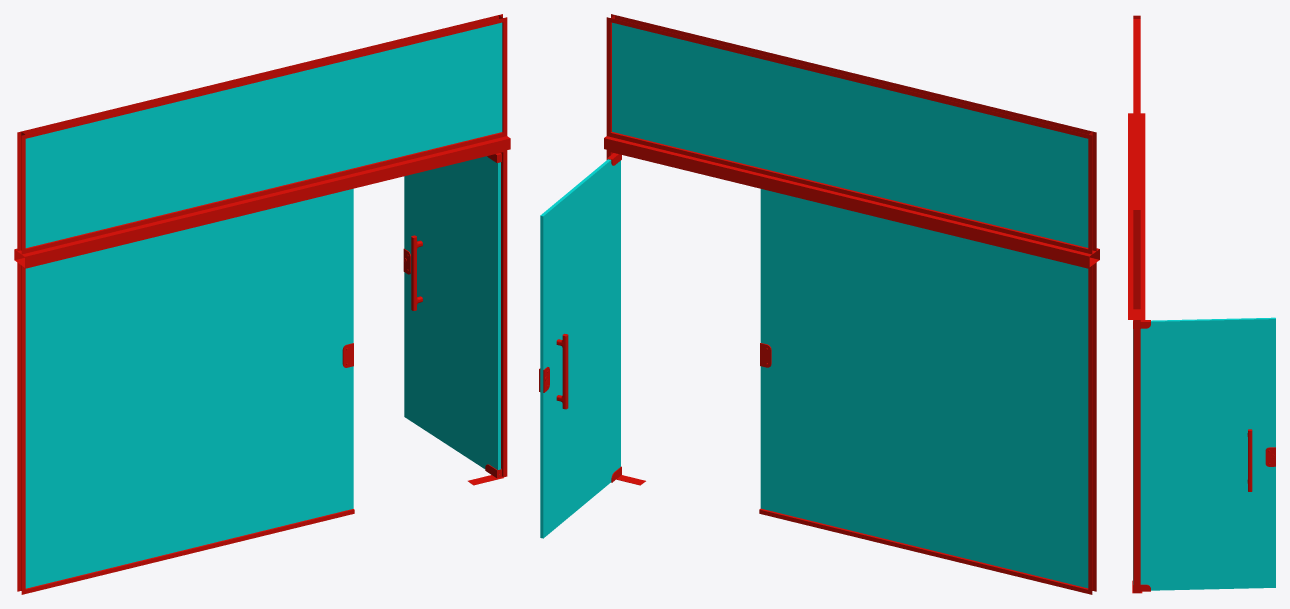
Rendered from porta_aberta_pedagogico.fbx.
The picture shows the model from 3 angles, left to right: view 1: azimuth 30°, elevation 25°; view 2: azimuth 150°, elevation 25°; view 3: azimuth 270°, elevation 25°; orthographic projection. The views are drawn at different scales.
Parts seen in each view (by area): view 1: Plane.086; view 2: Plane.086; view 3: Plane.086.
Boxes of the visible parts, x1=… form: Plane.086: x1=14, y1=14, x2=510, y2=594; Plane.086: x1=539, y1=14, x2=1099, y2=594; Plane.086: x1=1128, y1=15, x2=1275, y2=593.
Size of the model in its own units: 371 by 335 by 117.
